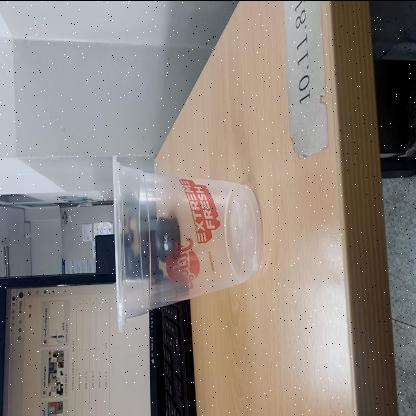Others: (111, 152, 263, 330)
